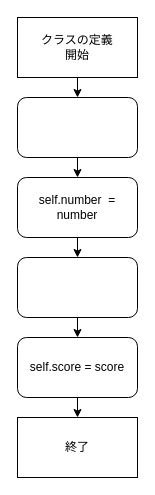
Image size: 155x495. Some labels were removed from this diagram. Each missing label, with the centre of its shape:
__init__(self.number ,name,score): pixel 77 127
self.name = name: pixel 77 287
